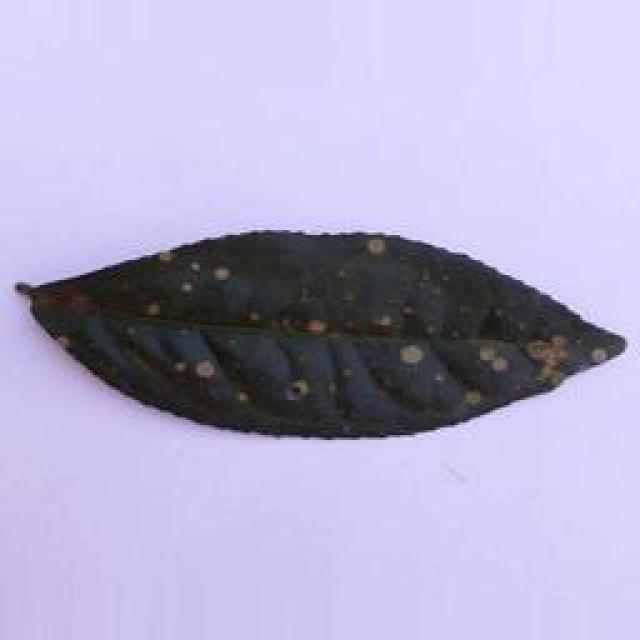Algal Leaf Spot: (15, 210, 640, 455)
